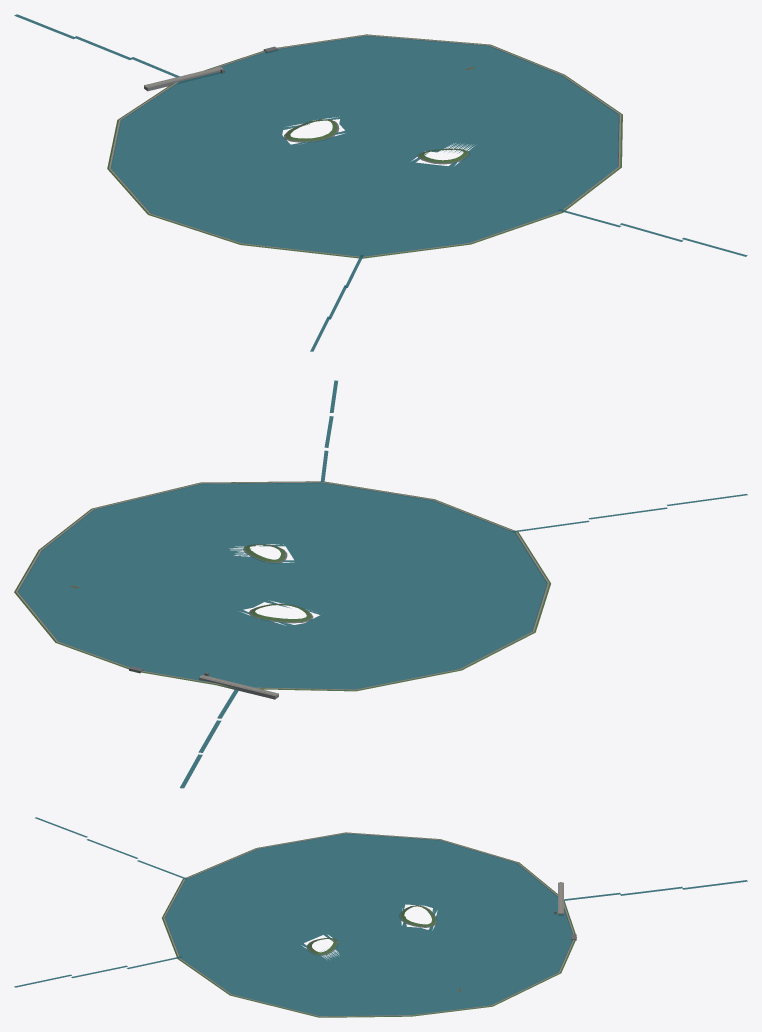
The model's file is water_ho_proh_don_duong.glb.
3 renders of one model, top to bottom at view 1: azimuth 30°, elevation 25°; view 2: azimuth 150°, elevation 25°; view 3: azimuth 270°, elevation 25°, orthographic. The views are drawn at different scales.
Visible parts, largest first — view 1: water_surface_water_ho_proh_don_duong, shoreline_terrain_transition_verge_water_ho_proh_don_duong, lakeside_promenade_walkway_water_ho_proh_don_duong, embankment_stone_coping_water_ho_proh_don_duong; view 2: water_surface_water_ho_proh_don_duong, shoreline_terrain_transition_verge_water_ho_proh_don_duong, lakeside_promenade_walkway_water_ho_proh_don_duong, embankment_stone_coping_water_ho_proh_don_duong; view 3: water_surface_water_ho_proh_don_duong, shoreline_terrain_transition_verge_water_ho_proh_don_duong, lakeside_promenade_walkway_water_ho_proh_don_duong, embankment_stone_coping_water_ho_proh_don_duong, headwater_terraces_stream_proh_north_irrigation_canal_to_da_, headwater_terraces_stream_proh_southeast_mountain_inflow, headwater_terraces_stream_proh_southwest_ridge_inflow.
Boxes of the visible parts, bbox=[...] form: water_surface_water_ho_proh_don_duong: bbox=[111, 36, 619, 256]; shoreline_terrain_transition_verge_water_ho_proh_don_duong: bbox=[107, 34, 622, 258]; lakeside_promenade_walkway_water_ho_proh_don_duong: bbox=[109, 35, 621, 257]; embankment_stone_coping_water_ho_proh_don_duong: bbox=[110, 35, 619, 256]; water_surface_water_ho_proh_don_duong: bbox=[18, 482, 547, 689]; shoreline_terrain_transition_verge_water_ho_proh_don_duong: bbox=[14, 481, 550, 691]; lakeside_promenade_walkway_water_ho_proh_don_duong: bbox=[16, 481, 549, 690]; embankment_stone_coping_water_ho_proh_don_duong: bbox=[17, 482, 547, 689]; water_surface_water_ho_proh_don_duong: bbox=[165, 833, 572, 1016]; shoreline_terrain_transition_verge_water_ho_proh_don_duong: bbox=[162, 832, 576, 1017]; lakeside_promenade_walkway_water_ho_proh_don_duong: bbox=[163, 832, 574, 1016]; embankment_stone_coping_water_ho_proh_don_duong: bbox=[164, 833, 572, 1016]; headwater_terraces_stream_proh_north_irrigation_canal_to_da_: bbox=[564, 880, 747, 900]; headwater_terraces_stream_proh_southeast_mountain_inflow: bbox=[14, 956, 181, 987]; headwater_terraces_stream_proh_southwest_ridge_inflow: bbox=[35, 817, 187, 879].
Size of the model in its own units: 1786 by 43.5 by 2835.
